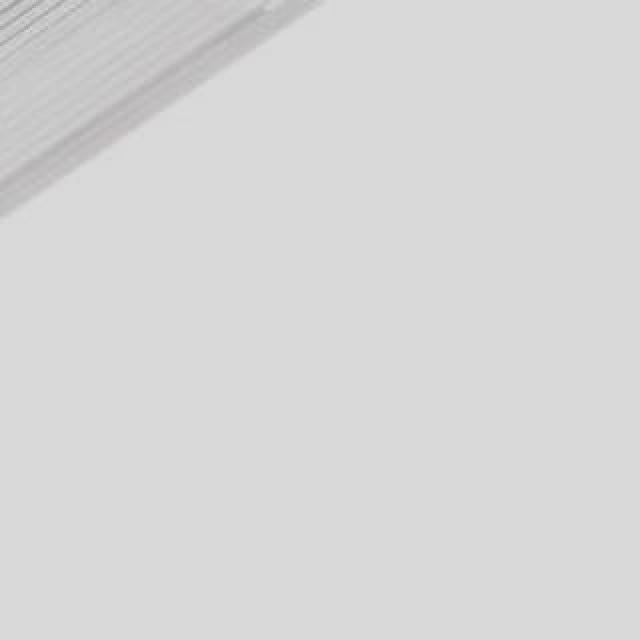fluorescent tube: (0, 0, 532, 516), (0, 0, 252, 436)
